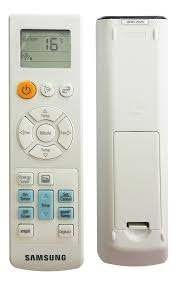remote control: (11, 15, 83, 267), (99, 15, 167, 263)
